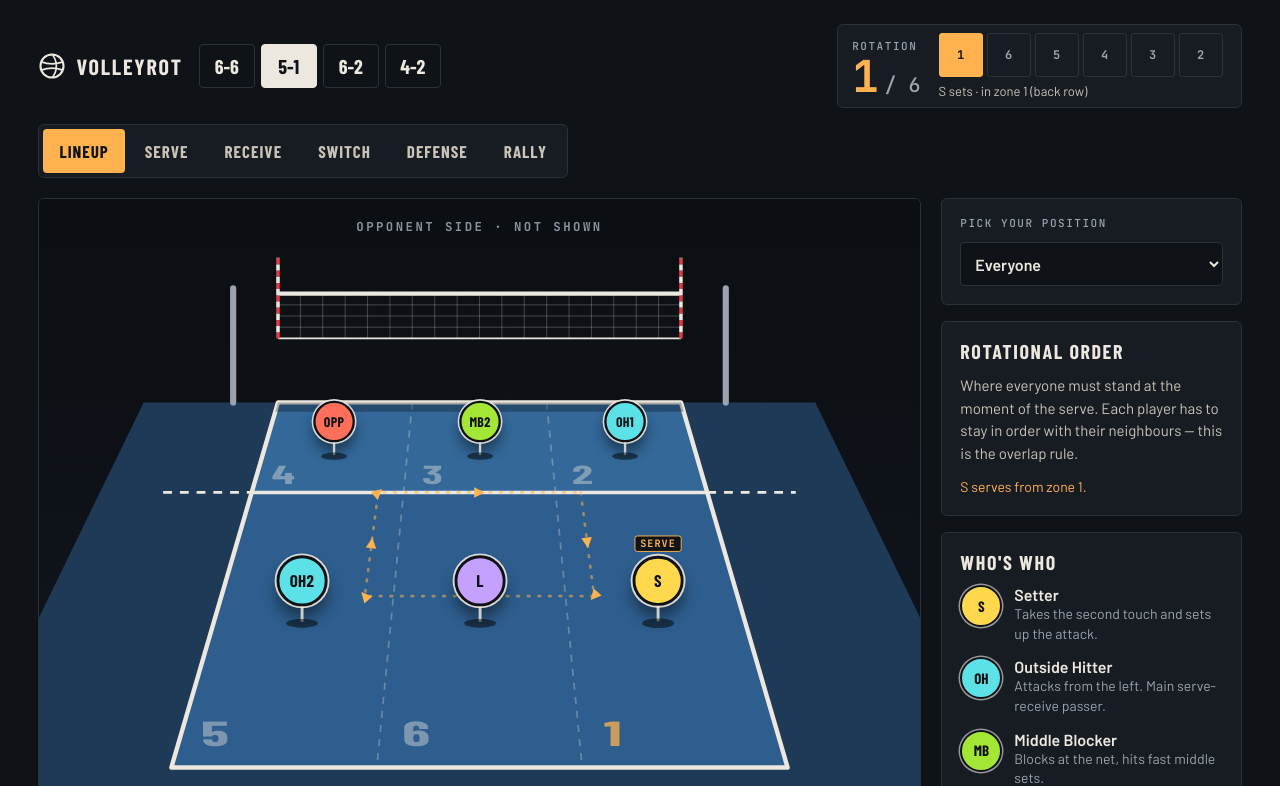
it: receive explains who passes
What coordinates should you click on to do the following:
click the button "Receive"
I would click on:
 (253, 151)
Its box is x1=208 y1=129 x2=298 y2=173.
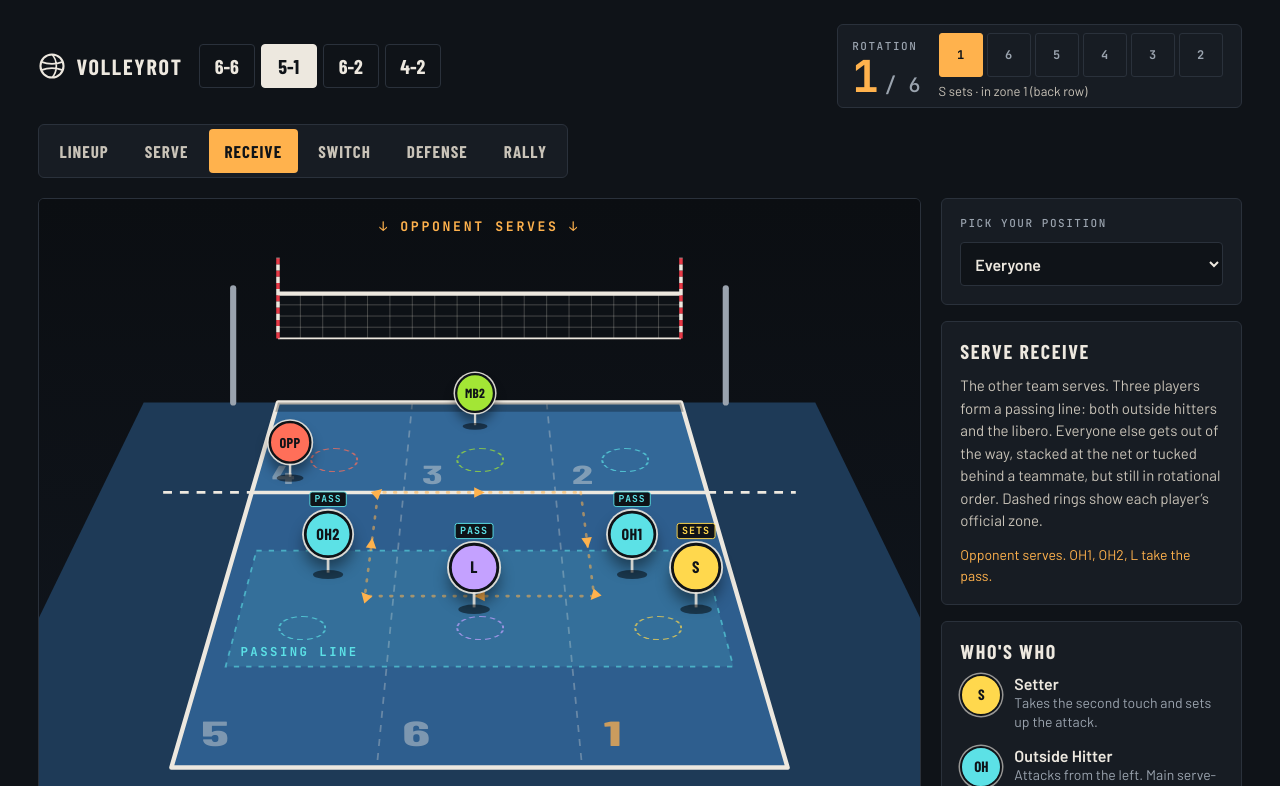
Expected: the text "Opponent serves. OH1, OH2, L take the pass." is shown, x1=960 y1=544 x2=1223 y2=586
